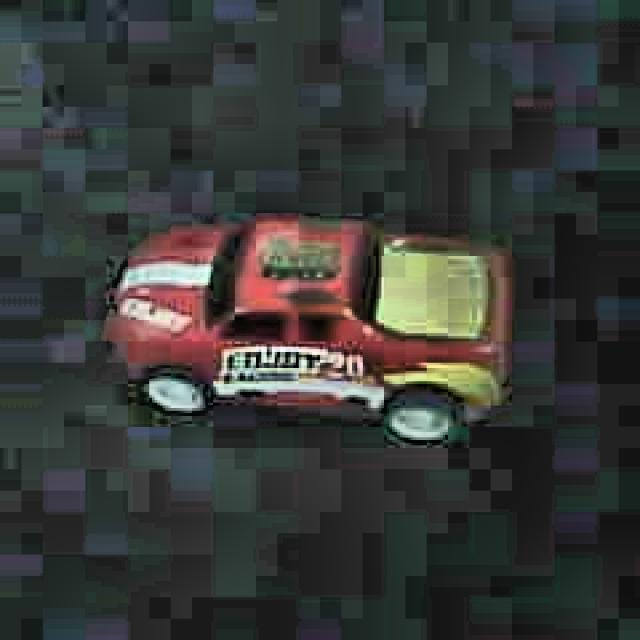car: (101, 213, 509, 450)
